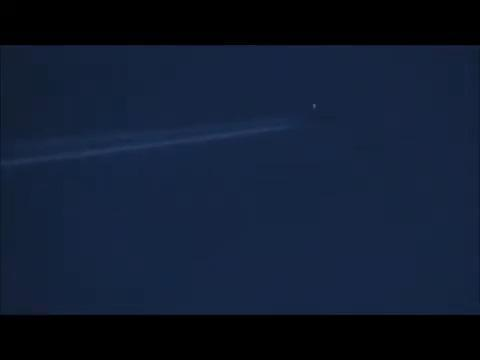Plane: (13, 97, 356, 181)
